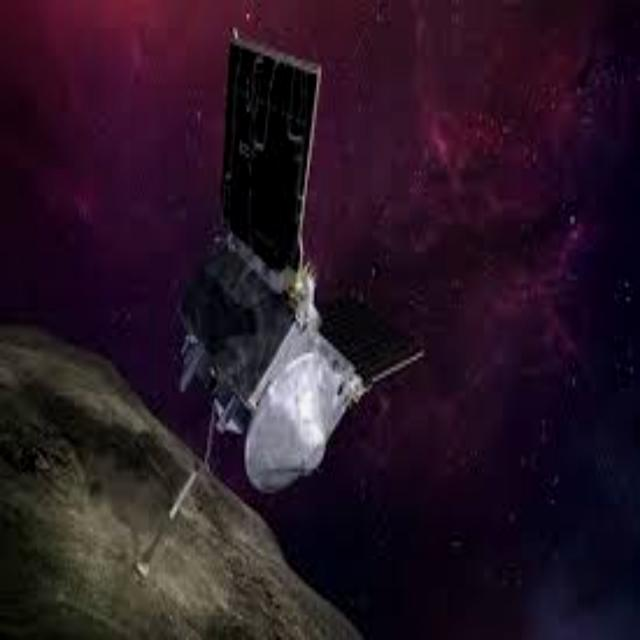satellite: (142, 26, 451, 560)
